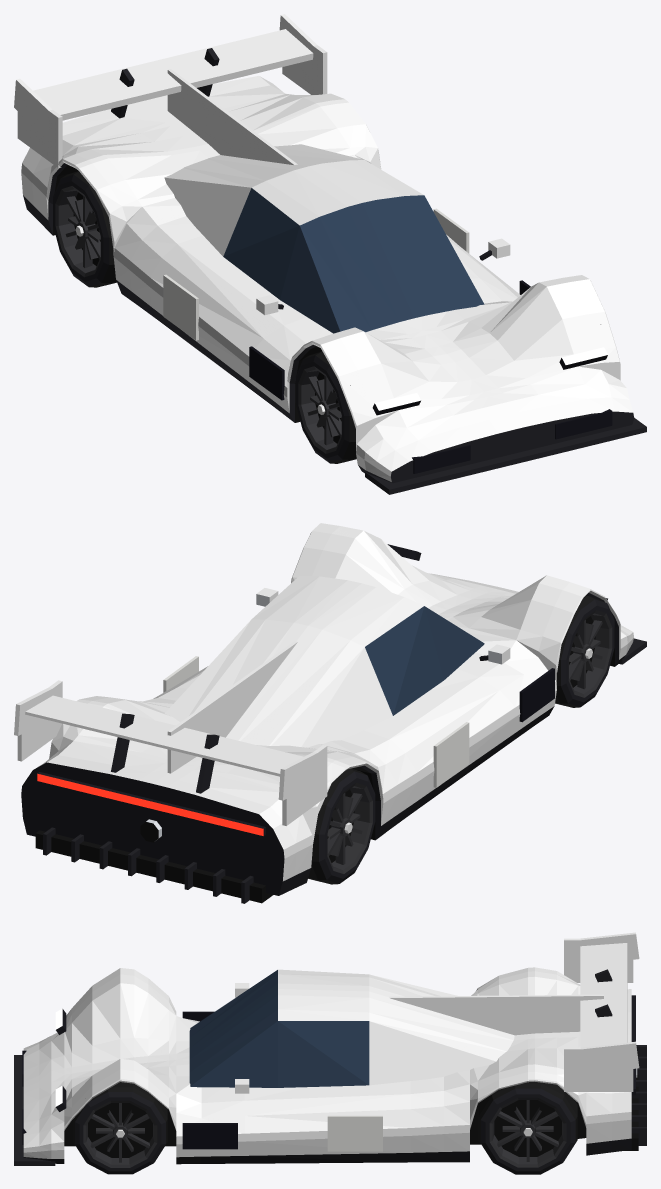
File: prototype.glb
3 views of the same model, one above another, from view 1: azimuth 30°, elevation 25°; view 2: azimuth 150°, elevation 25°; view 3: azimuth 270°, elevation 25° (orthographic). The views are drawn at different scales.
Parts seen in each view (by area): view 1: paint, glass, accent, stripe_a, trim_carbon, part_16 (×2), tire_side (×2), trim_grille, stripe_b, white, headlight, tire; view 2: paint, trim, accent, stripe_a, glass, trim_carbon, part_16 (×2), trim_under, tire_side (×2), white, stripe_b, taillight (+2 smaller); view 3: paint, accent, glass, stripe_a, trim_carbon, part_16 (×2), trim_under (×3), tire_side (×2), stripe_b, white, trim_grille, tire (×2) (+1 smaller).
Part boxes in pixels (<box>): paint: <box>21,76,633,481</box>; glass: <box>223,188,484,333</box>; accent: <box>14,14,327,168</box>; stripe_a: <box>122,102,554,441</box>; trim_carbon: <box>23,48,646,494</box>; part_16 (×2): <box>55,186,341,453</box>; tire_side (×2): <box>53,174,349,463</box>; trim_grille: <box>249,280,612,473</box>; stripe_b: <box>21,125,620,476</box>; white: <box>163,208,469,340</box>; headlight: <box>375,347,607,410</box>; tire: <box>61,171,116,287</box>; paint: <box>35,523,633,881</box>; trim: <box>21,544,607,895</box>; accent: <box>14,641,327,825</box>; stripe_a: <box>111,576,516,794</box>; glass: <box>365,606,484,715</box>; trim_carbon: <box>43,592,646,903</box>; part_16 (×2): <box>327,610,612,873</box>; trim_under: <box>35,594,614,903</box>; tire_side (×2): <box>319,599,614,883</box>; white: <box>163,656,469,787</box>; stripe_b: <box>283,532,633,858</box>; taillight: <box>37,773,263,835</box>; paint: <box>23,967,631,1158</box>; accent: <box>389,932,639,1091</box>; glass: <box>189,970,369,1087</box>; stripe_a: <box>23,974,631,1105</box>; trim_carbon: <box>14,969,646,1165</box>; part_16 (×2): <box>83,1097,566,1167</box>; trim_under (×3): <box>64,1051,638,1157</box>; tire_side (×2): <box>75,1088,575,1174</box>; stripe_b: <box>23,1079,631,1152</box>; white: <box>327,1115,382,1151</box>; trim_grille: <box>22,1011,237,1149</box>; tire (×2): <box>73,1082,577,1162</box>.
Bounding box in the file's own units: 1.93 × 1.07 × 4.58.
